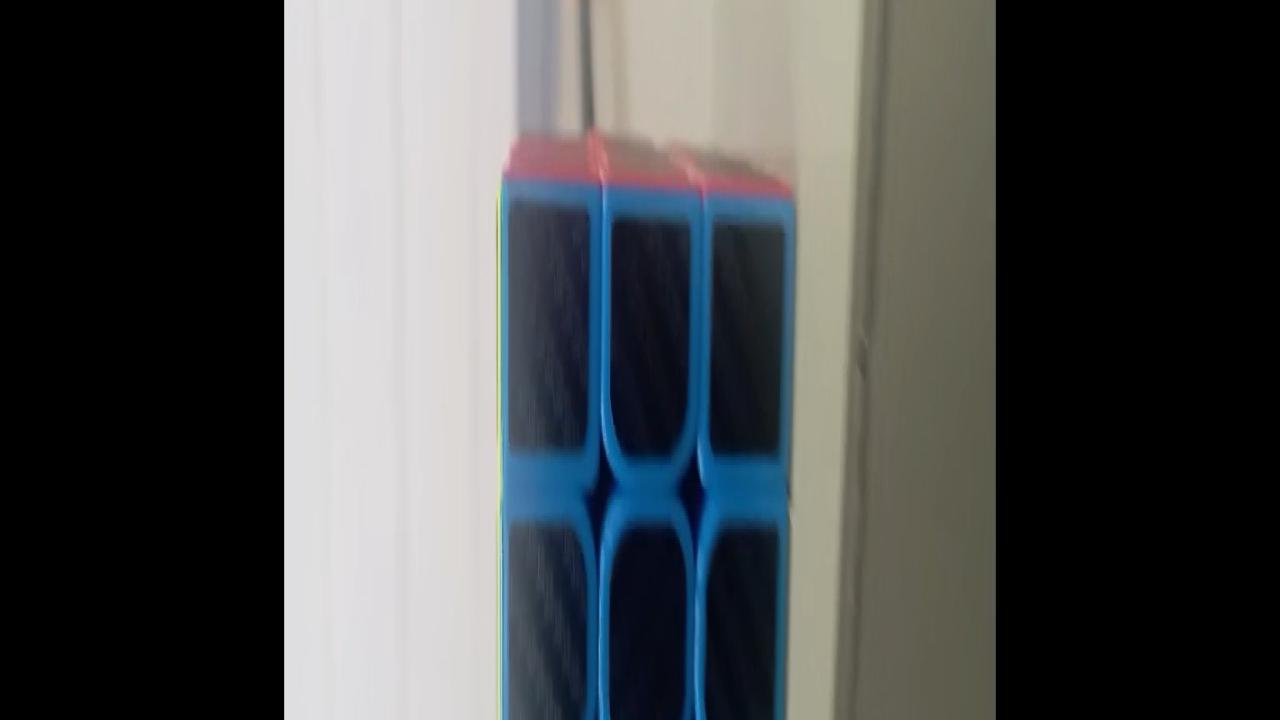Cube: (495, 125, 797, 720)
